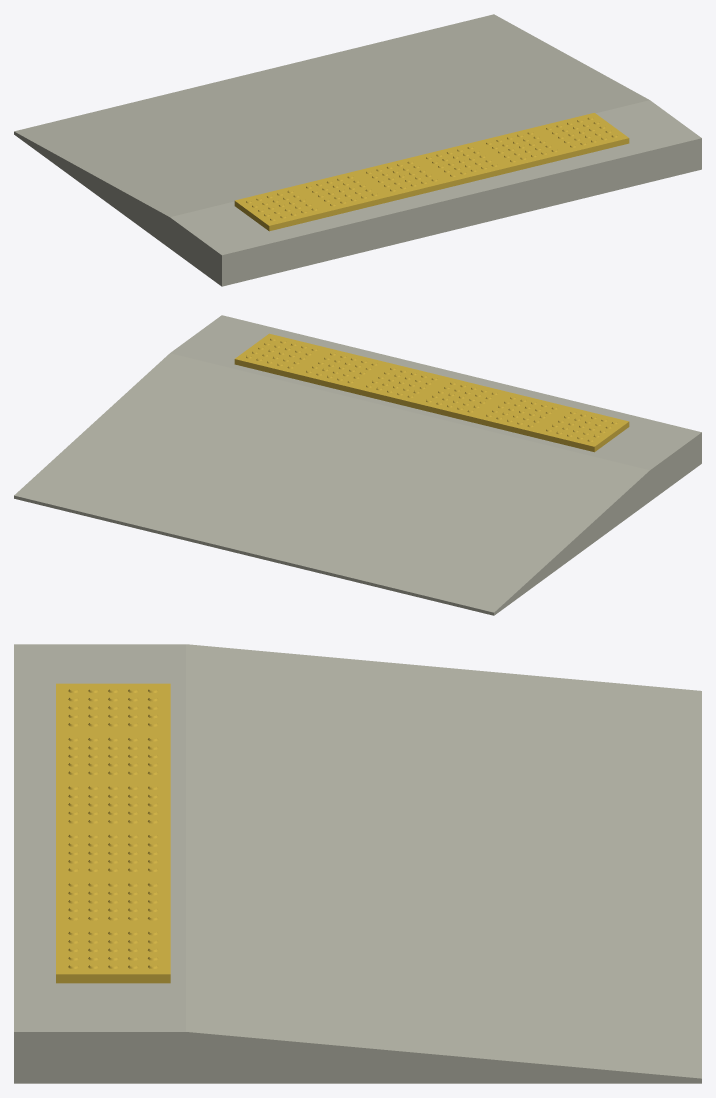
The model's file is curb-ramp-v1.glb.
3 views of the same model, one above another, from view 1: azimuth 30°, elevation 25°; view 2: azimuth 150°, elevation 25°; view 3: azimuth 270°, elevation 25° (orthographic). The views are drawn at different scales.
Parts seen in each view (by area): view 1: 보도 턱낮춤 · 점자블록 연결; view 2: 보도 턱낮춤 · 점자블록 연결; view 3: 보도 턱낮춤 · 점자블록 연결.
Part boxes in pixels (x1=…): 보도 턱낮춤 · 점자블록 연결: x1=14, y1=14, x2=701, y2=286; 보도 턱낮춤 · 점자블록 연결: x1=14, y1=315, x2=701, y2=615; 보도 턱낮춤 · 점자블록 연결: x1=14, y1=644, x2=701, y2=1083.
Bounding box in the file's own units: 2.4 × 0.181 × 1.8.
